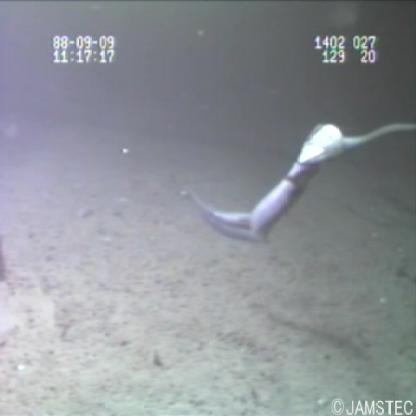Bio: (174, 117, 345, 255), (313, 116, 416, 154)
